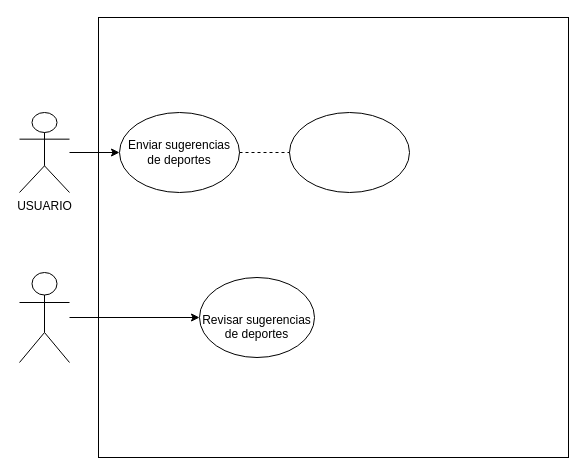
The diagram is 586 pixels wide and 475 high, and some of its shapes have lost their labels. The shapes that lost their labels are listed below. From the top down, each one's box as (x1, y1, x2, y2) in pixels, then its label:
(288, 112, 410, 192): Almacenar Sugerencias de deportes
(18, 272, 70, 362): ADMIN
